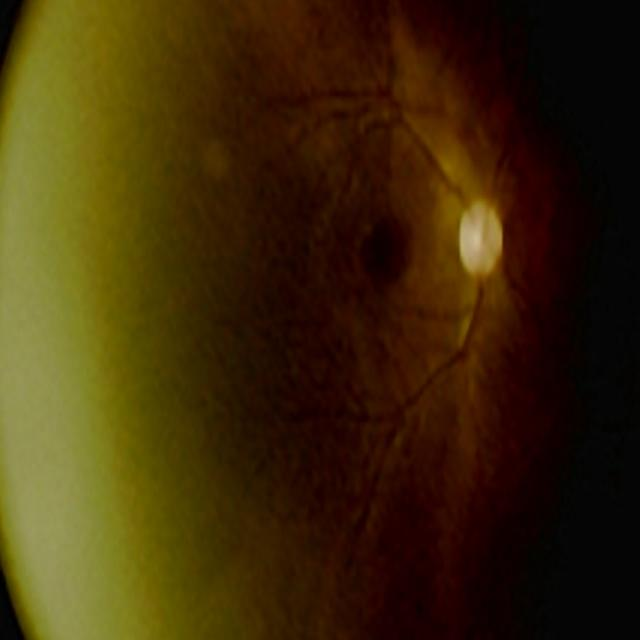optic-nerve: (433, 164, 529, 326)
